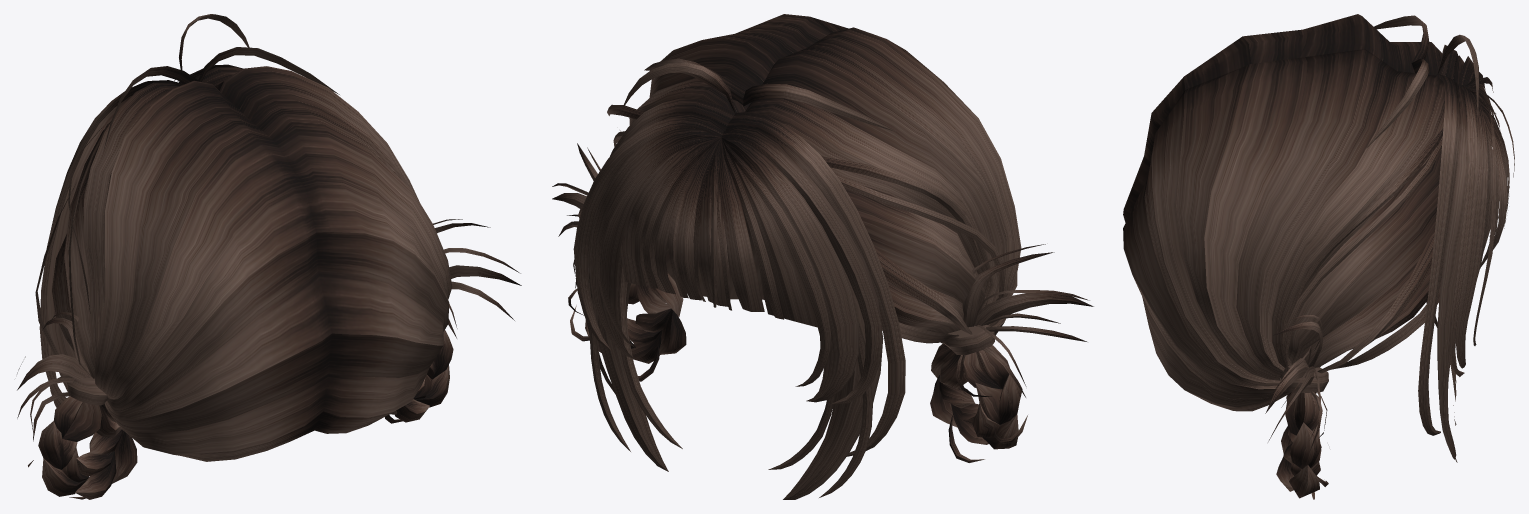
3 renders of one model, left to right at view 1: azimuth 30°, elevation 25°; view 2: azimuth 150°, elevation 25°; view 3: azimuth 270°, elevation 25°, orthographic. The views are drawn at different scales.
Visible parts, largest first — view 1: geometry_0; view 2: geometry_0; view 3: geometry_0.
Boxes of the visible parts, x1,y1,x2,y2 form: geometry_0: (17, 14, 521, 499); geometry_0: (552, 14, 1093, 499); geometry_0: (1123, 14, 1514, 499).
Size of the model in its own units: 2.48 by 1.83 by 1.6.
Materials: 1 (1 with a texture image).
